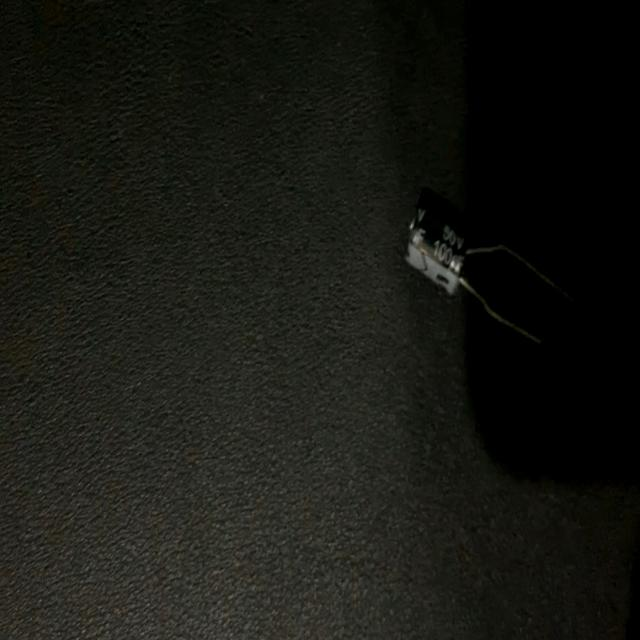capacitor: (400, 190, 578, 351)
